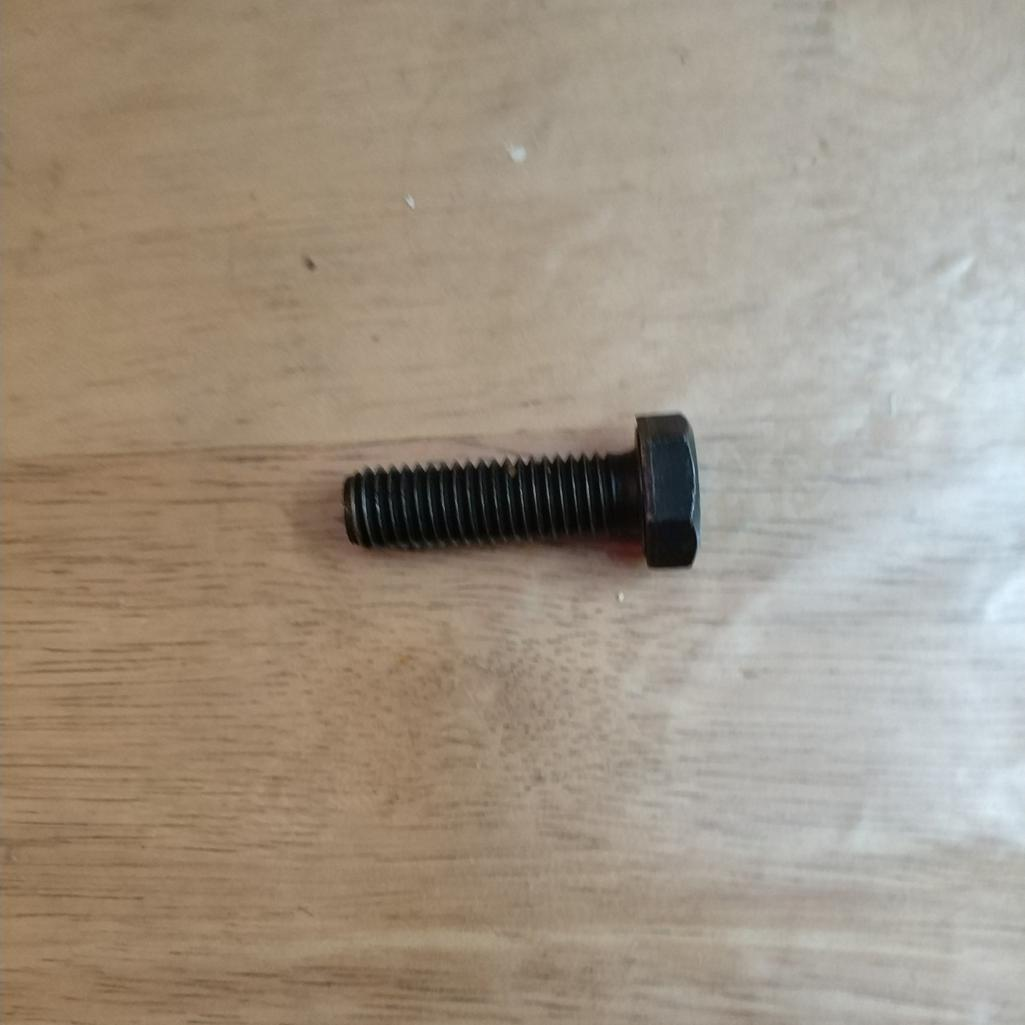screwtype2black: (334, 408, 707, 576)
